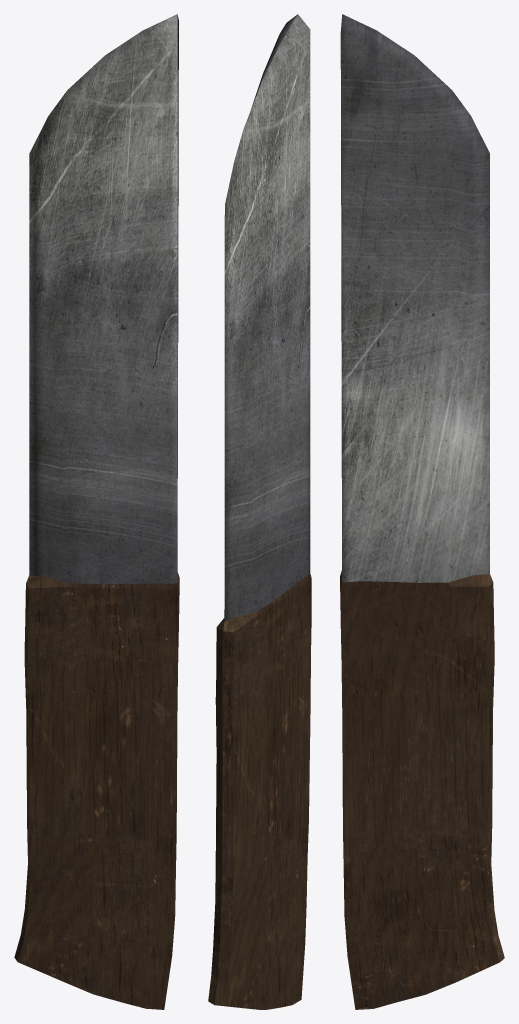
File: cuchillo.fbx
3 renders of one model, left to right at view 1: azimuth 90°, elevation 25°; view 2: azimuth 150°, elevation 25°; view 3: azimuth 270°, elevation 25°, orthographic.
Parts seen in each view (by area): view 1: Cubo, Mango; view 2: Cubo, Mango; view 3: Cubo, Mango.
Boxes of the visible parts, bbox=[...] form: Cubo: bbox=[29, 14, 178, 583]; Mango: bbox=[14, 572, 179, 1009]; Cubo: bbox=[224, 14, 310, 621]; Mango: bbox=[208, 573, 311, 1009]; Cubo: bbox=[340, 14, 489, 582]; Mango: bbox=[340, 570, 504, 1009].
Bounding box in the file's own units: 0.8447 × 27.85 × 4.21.
2 materials, 2 textured.
